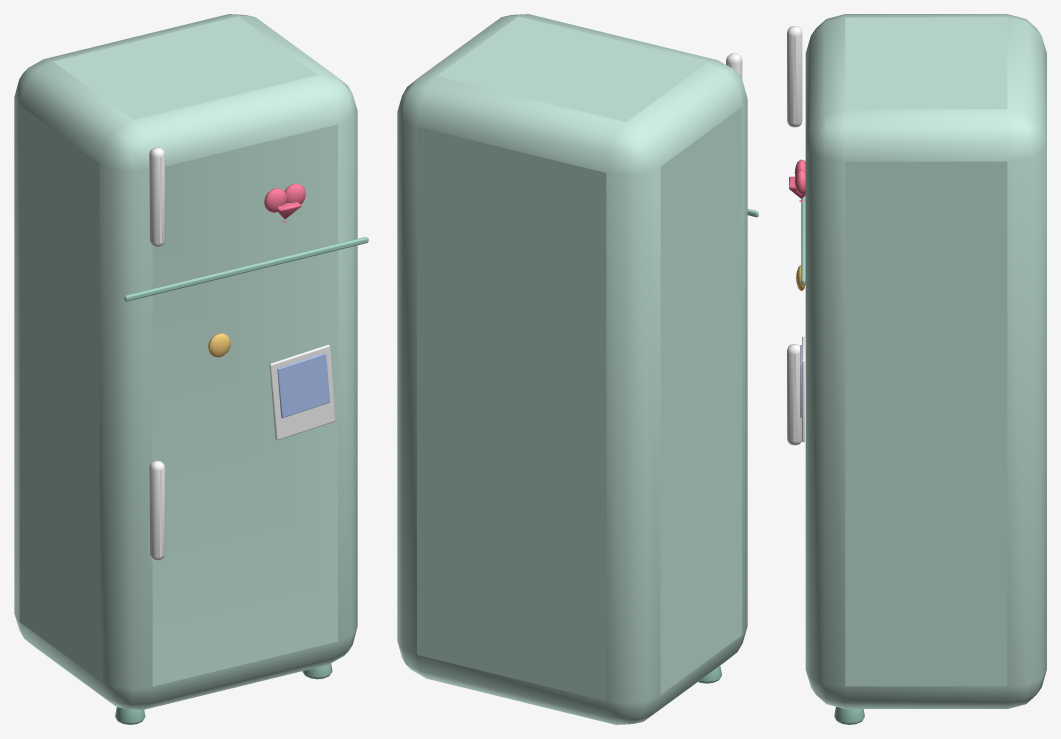
Rendered from fridge.glb.
The picture shows the model from 3 angles, left to right: view 1: azimuth 30°, elevation 25°; view 2: azimuth 150°, elevation 25°; view 3: azimuth 270°, elevation 25°; orthographic projection. The views are drawn at different scales.
Visible parts, largest first — view 1: body, cffffff, photo_pic, ca6d8c6, cff7b9c; view 2: body; view 3: body, cffffff, ca6d8c6, cff7b9c.
Part boxes in pixels (x1,y1,x2,y2): body: (14,14,357,709); cffffff: (149,147,335,560); photo_pic: (277,353,329,418); ca6d8c6: (115,237,368,724); cff7b9c: (264,183,305,222); body: (397,14,747,724); body: (805,14,1046,708); cffffff: (787,26,804,445); ca6d8c6: (801,160,864,724); cff7b9c: (789,159,805,201).
Size of the model in its own units: 1.35 by 3.07 by 1.18.
